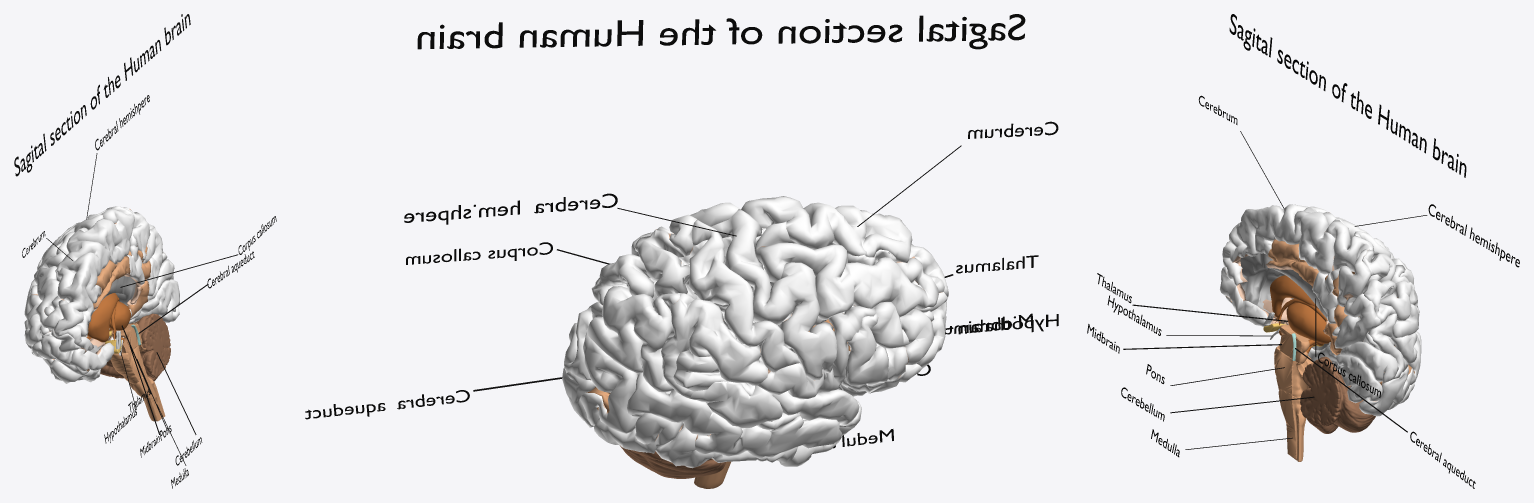
The model's file is Brain.glb.
3 views of the same model, side by side, from view 1: azimuth 30°, elevation 25°; view 2: azimuth 150°, elevation 25°; view 3: azimuth 270°, elevation 25° (orthographic). The views are drawn at different scales.
Visible parts, largest first — view 1: Superior frontal gyrus.r.001, Middle frontal gyrus.r.001, Cerebellum, Text.010, Precuneus.r.001, Lingual gyrus.r.001, Caudate nucleus.r.001, Pons, Straight gyrus (Gyrus rectus).r.001, Medulla, Orbital gyri (Frontomarginal gyrus and sulcus*).r.001, CorpusCallosum (+11 smaller); view 2: Middle frontal gyrus.r.001, Precentral gyrus.r.001, Superior frontal gyrus.r.001, Middle temporal gyrus.r.001, Angular gyrus.r.001, Postcentral gyrus.r.001, Supramarginal gyrus.r.001, Text.010, Superior temporal gyrus (Lateral part).r.001, Superior parietal lobule.r.001, Inferior temporal gyrus.r.001, Lateral occipital gyrus (Middle occipital gyrus*).r.001 (+13 smaller); view 3: Superior frontal gyrus.r.001, Cerebellum, Precuneus.r.001, CorpusCallosum, Text.010, Angular gyrus.r.001, Superior parietal lobule.r.001, Lingual gyrus.r.001, Cuneus.r.001, Paracentral gyrus and sulcus*.r.001, Medulla, Pons (+10 smaller).
Part boxes in pixels (x1,y1,x2,y2): Superior frontal gyrus.r.001: [53, 218, 130, 352]; Middle frontal gyrus.r.001: [25, 231, 74, 344]; Cerebellum: [100, 313, 170, 381]; Text.010: [14, 14, 190, 176]; Precuneus.r.001: [124, 207, 162, 296]; Lingual gyrus.r.001: [128, 279, 179, 323]; Caudate nucleus.r.001: [85, 293, 117, 342]; Pons: [110, 343, 146, 384]; Straight gyrus (Gyrus rectus).r.001: [70, 342, 114, 371]; Medulla: [129, 373, 165, 421]; Orbital gyri (Frontomarginal gyrus and sulcus*).r.001: [31, 331, 73, 364]; CorpusCallosum: [85, 275, 135, 352]; Middle frontal gyrus.r.001: [755, 242, 944, 364]; Precentral gyrus.r.001: [711, 209, 837, 379]; Superior frontal gyrus.r.001: [741, 196, 948, 296]; Middle temporal gyrus.r.001: [627, 372, 841, 458]; Angular gyrus.r.001: [586, 286, 680, 392]; Postcentral gyrus.r.001: [688, 219, 801, 372]; Supramarginal gyrus.r.001: [661, 293, 768, 397]; Text.010: [417, 14, 1025, 49]; Superior temporal gyrus (Lateral part).r.001: [689, 381, 859, 428]; Superior parietal lobule.r.001: [592, 229, 689, 305]; Inferior temporal gyrus.r.001: [632, 412, 823, 468]; Lateral occipital gyrus (Middle occipital gyrus*).r.001: [580, 332, 638, 433]; Superior frontal gyrus.r.001: [1222, 204, 1335, 285]; Cerebellum: [1300, 356, 1375, 433]; Precuneus.r.001: [1330, 249, 1380, 348]; CorpusCallosum: [1240, 253, 1330, 350]; Text.010: [1229, 14, 1466, 177]; Angular gyrus.r.001: [1380, 265, 1419, 337]; Superior parietal lobule.r.001: [1362, 249, 1396, 323]; Lingual gyrus.r.001: [1336, 353, 1382, 403]; Cuneus.r.001: [1340, 331, 1398, 383]; Paracentral gyrus and sulcus*.r.001: [1325, 220, 1373, 271]; Medulla: [1278, 390, 1306, 461]; Pons: [1274, 345, 1313, 398].
Size of the model in its own units: 1.17 by 1.05 by 1.12.
